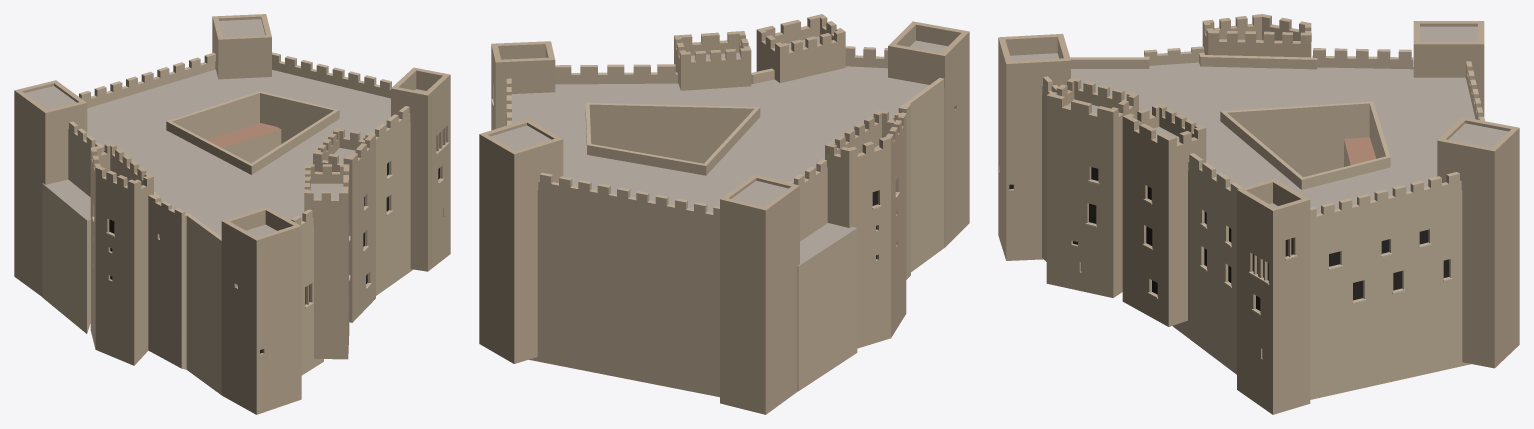
Rendered from castillo.glb.
The picture shows the model from 3 angles, left to right: view 1: azimuth 30°, elevation 25°; view 2: azimuth 150°, elevation 25°; view 3: azimuth 270°, elevation 25°; orthographic projection. The views are drawn at different scales.
Parts seen in each view (by area): view 1: CAS_cuerpo, CAS_cuerpo_azotea, CAS_torre_SO, CAS_torre_pentagonal, CAS_torre_E, CAS_torre_NO, CAS_torre_S1, CAS_torre_S2, CAS_cuerpo_bajo_oeste, CAS_patio, CAS_torre_NE, CAS_galeria (+3 smaller); view 2: CAS_cuerpo, CAS_cuerpo_azotea, CAS_torre_NO, CAS_torre_NE, CAS_torre_pentagonal, CAS_torre_SO, CAS_cuerpo_bajo_oeste, CAS_torre_S1, CAS_patio, CAS_torre_S2, CAS_torre_E, CAS_cuerpo_bajo_oeste_azotea (+2 smaller); view 3: CAS_cuerpo, CAS_cuerpo_azotea, CAS_torre_E, CAS_torre_S1, CAS_torre_NE, CAS_torre_S2, CAS_torre_SO, CAS_patio, CAS_torre_pentagonal, CAS_torre_NO, CAS_cuerpo_huecos, CAS_torre_NO_azotea (+2 smaller).
Part boxes in pixels (x1=…): CAS_cuerpo: x1=68, y1=52, x2=413, y2=394; CAS_cuerpo_azotea: x1=87, y1=69, x2=390, y2=236; CAS_torre_SO: x1=221, y1=207, x2=301, y2=414; CAS_torre_pentagonal: x1=90, y1=142, x2=153, y2=365; CAS_torre_E: x1=391, y1=67, x2=450, y2=271; CAS_torre_NO: x1=14, y1=80, x2=87, y2=296; CAS_torre_S1: x1=304, y1=164, x2=350, y2=359; CAS_torre_S2: x1=313, y1=128, x2=375, y2=322; CAS_cuerpo_bajo_oeste: x1=42, y1=184, x2=90, y2=333; CAS_patio: x1=166, y1=91, x2=339, y2=174; CAS_torre_NE: x1=212, y1=14, x2=271, y2=79; CAS_galeria: x1=207, y1=123, x2=281, y2=163; CAS_cuerpo: x1=506, y1=46, x2=954, y2=397; CAS_cuerpo_azotea: x1=511, y1=66, x2=929, y2=212; CAS_torre_NO: x1=720, y1=174, x2=799, y2=414; CAS_torre_NE: x1=479, y1=119, x2=563, y2=363; CAS_torre_pentagonal: x1=825, y1=110, x2=906, y2=348; CAS_torre_SO: x1=888, y1=21, x2=969, y2=247; CAS_cuerpo_bajo_oeste: x1=797, y1=228, x2=857, y2=391; CAS_torre_S1: x1=756, y1=14, x2=845, y2=82; CAS_patio: x1=585, y1=102, x2=760, y2=175; CAS_torre_S2: x1=674, y1=31, x2=751, y2=90; CAS_torre_E: x1=491, y1=41, x2=555, y2=130; CAS_cuerpo_bajo_oeste_azotea: x1=798, y1=223, x2=856, y2=266; CAS_cuerpo: x1=1042, y1=46, x2=1484, y2=399; CAS_cuerpo_azotea: x1=1071, y1=62, x2=1475, y2=213; CAS_torre_E: x1=1237, y1=178, x2=1310, y2=414; CAS_torre_S1: x1=1046, y1=77, x2=1138, y2=297; CAS_torre_NE: x1=1437, y1=117, x2=1519, y2=368; CAS_torre_S2: x1=1122, y1=103, x2=1206, y2=326; CAS_torre_SO: x1=998, y1=34, x2=1070, y2=260; CAS_patio: x1=1220, y1=101, x2=1390, y2=189; CAS_torre_pentagonal: x1=1202, y1=14, x2=1311, y2=57; CAS_torre_NO: x1=1413, y1=21, x2=1484, y2=116; CAS_cuerpo_huecos: x1=1204, y1=211, x2=1448, y2=300; CAS_torre_NO_azotea: x1=1420, y1=26, x2=1477, y2=41.
Bounding box in the file's own units: 44.85 × 23.45 × 49.59.
